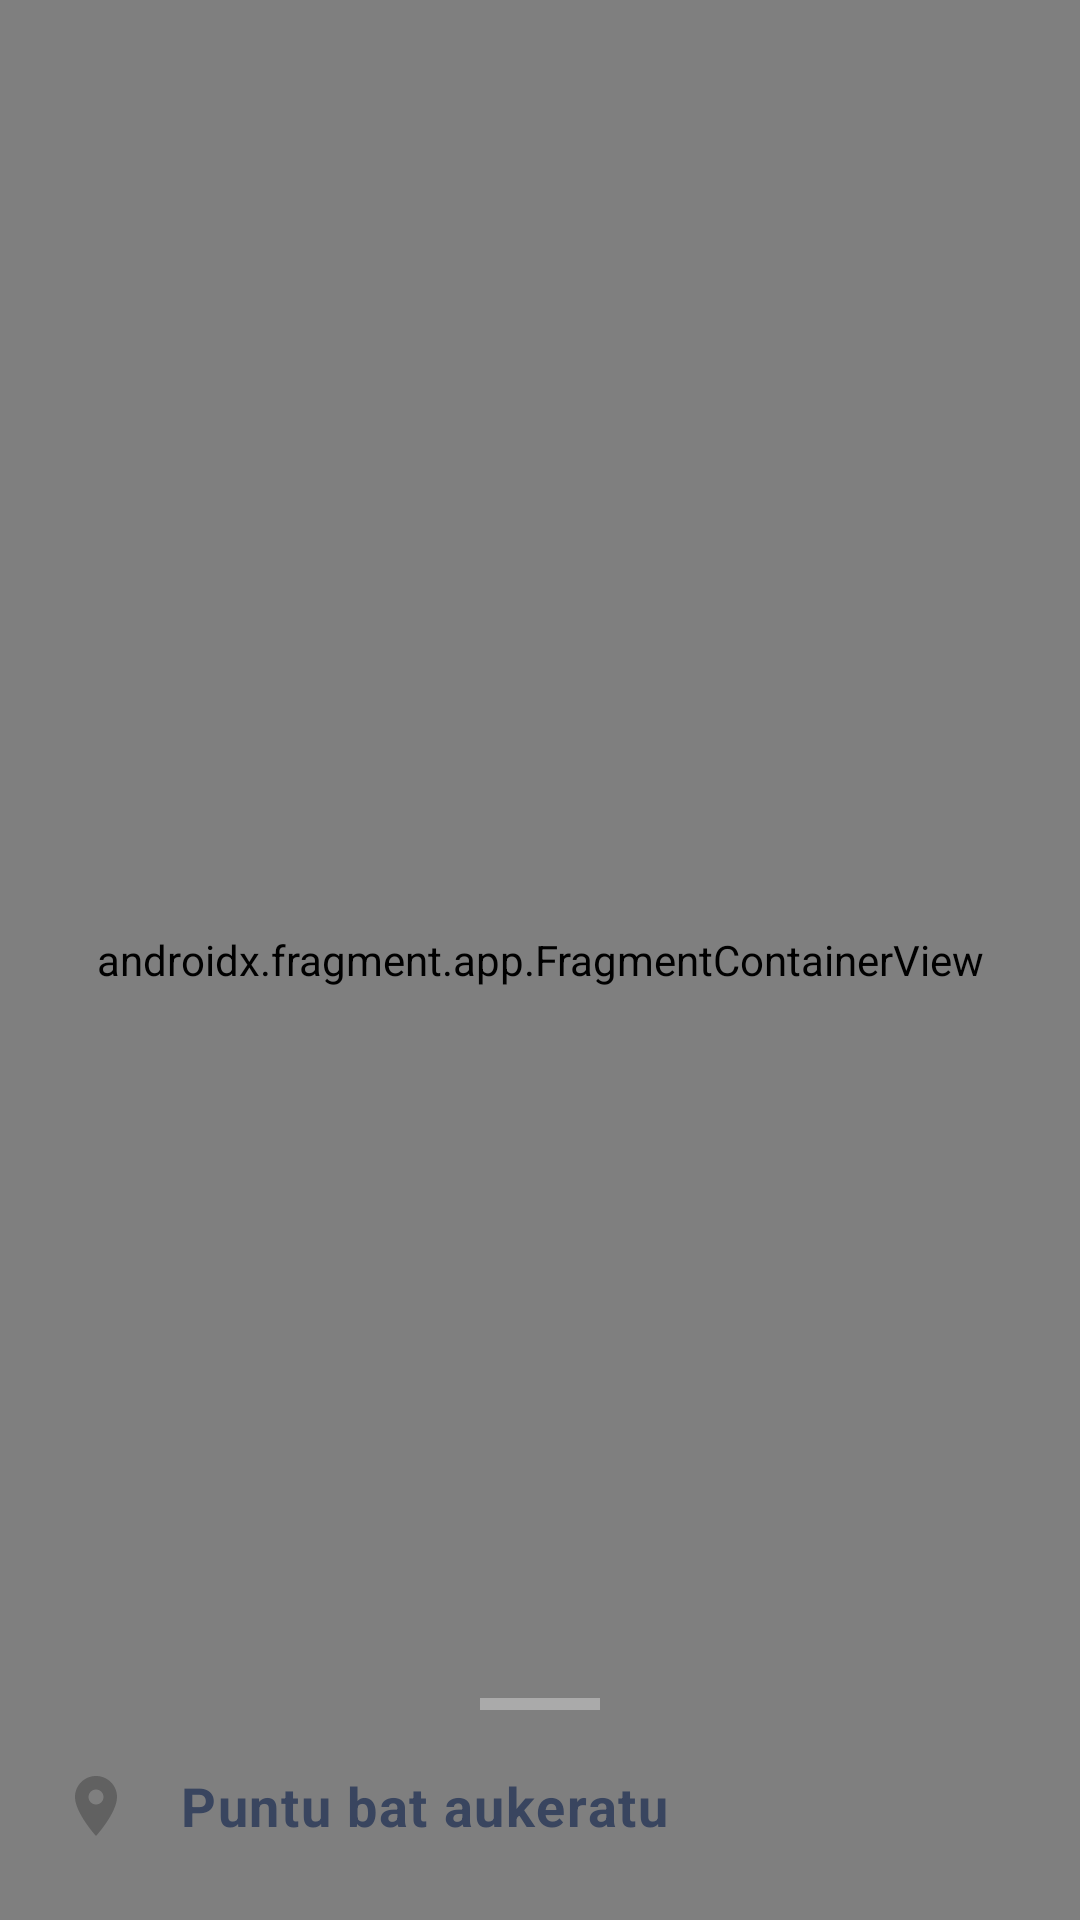

Named icons in this screenshot (1080 × 1920) and their centers, (x,y):
Kokalekuaren ikonoa: (96,1805)
